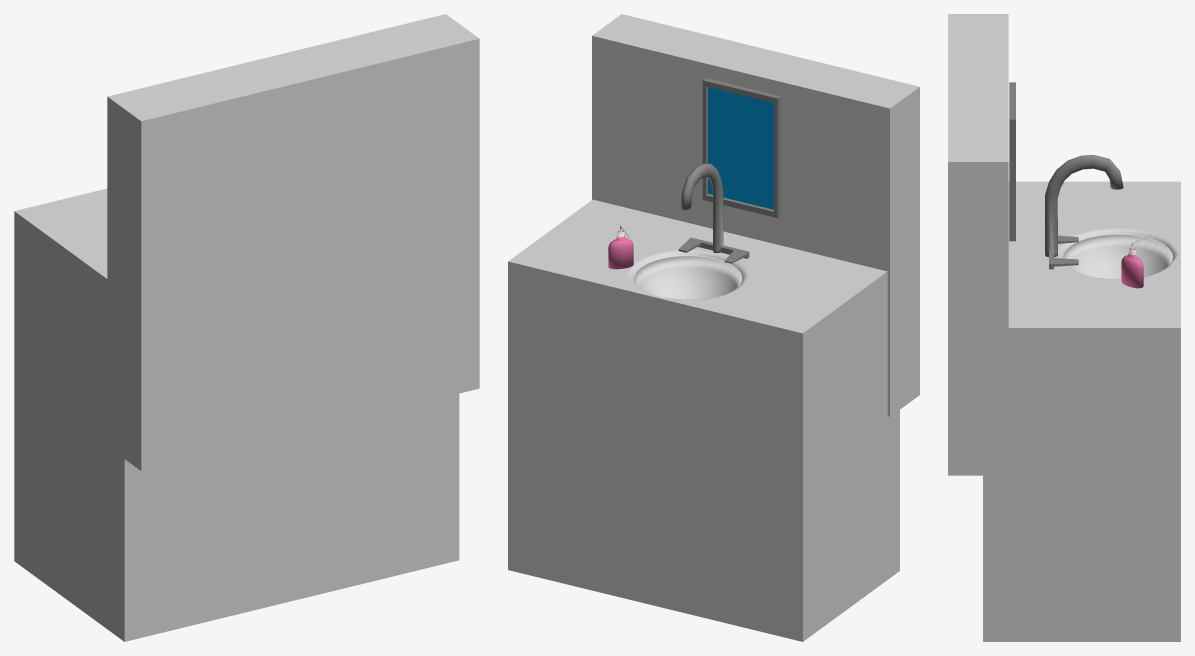
Rendered from sink.fbx.
3 renders of one model, left to right at view 1: azimuth 30°, elevation 25°; view 2: azimuth 150°, elevation 25°; view 3: azimuth 270°, elevation 25°, orthographic. The views are drawn at different scales.
Visible parts, largest first — view 1: sink; view 2: sink; view 3: sink.
Boxes of the visible parts, <box> form: sink: <box>14,14,479,641</box>; sink: <box>508,14,919,641</box>; sink: <box>948,14,1180,641</box>.
Size of the model in its own units: 1156 by 1748 by 768.
